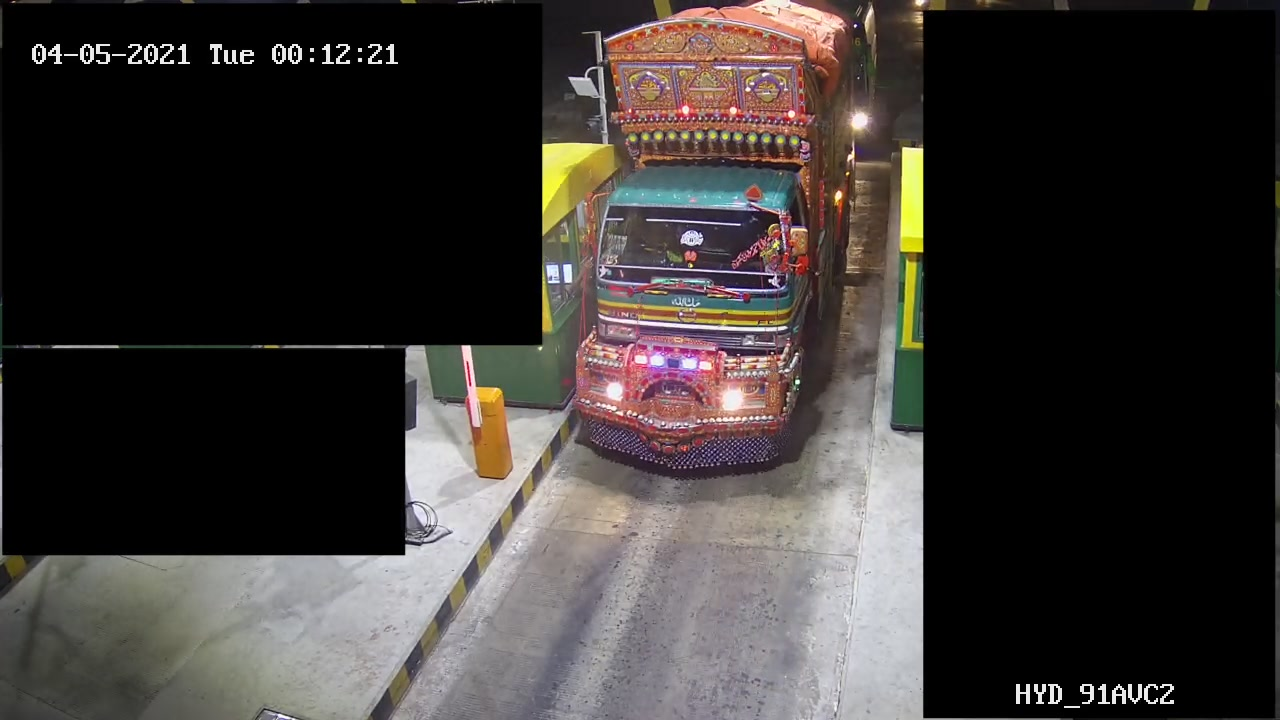F5: (564, 1, 861, 489)
